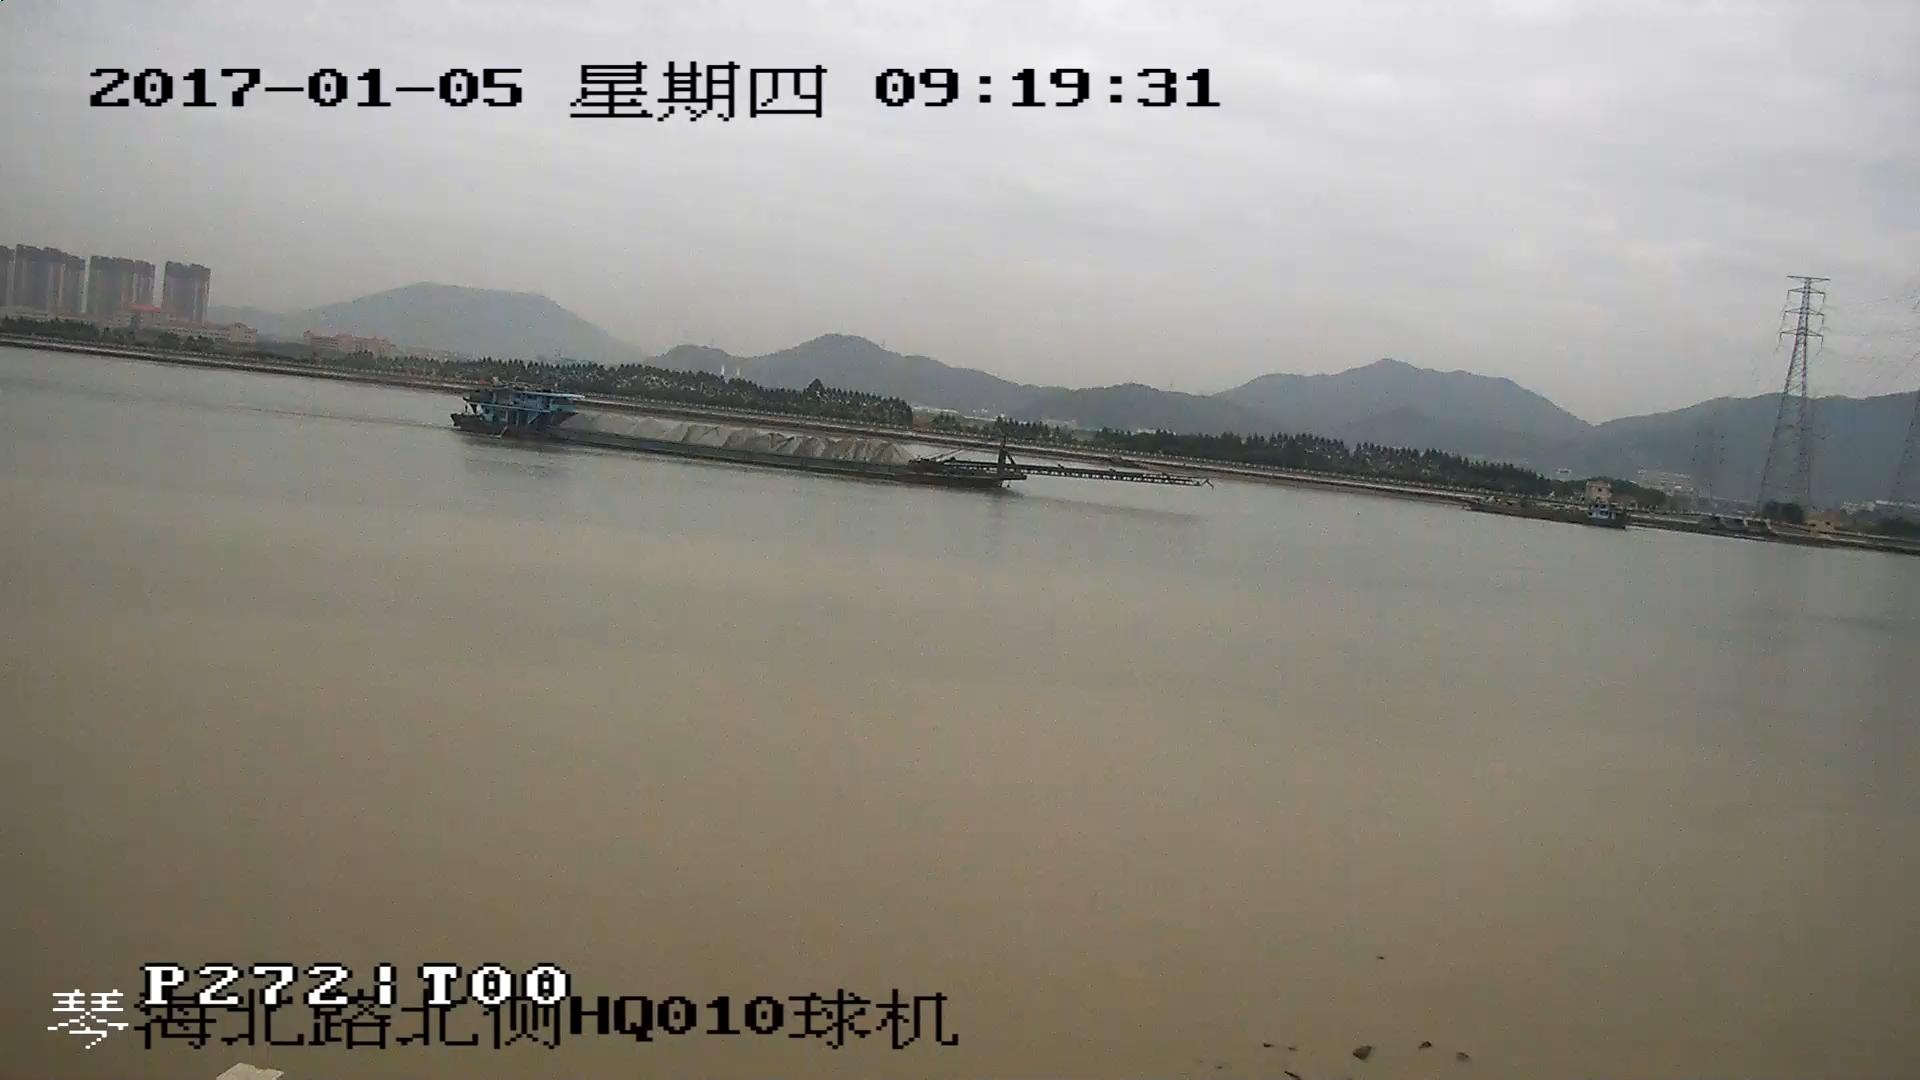ore carrier: (450, 387, 1197, 494)
